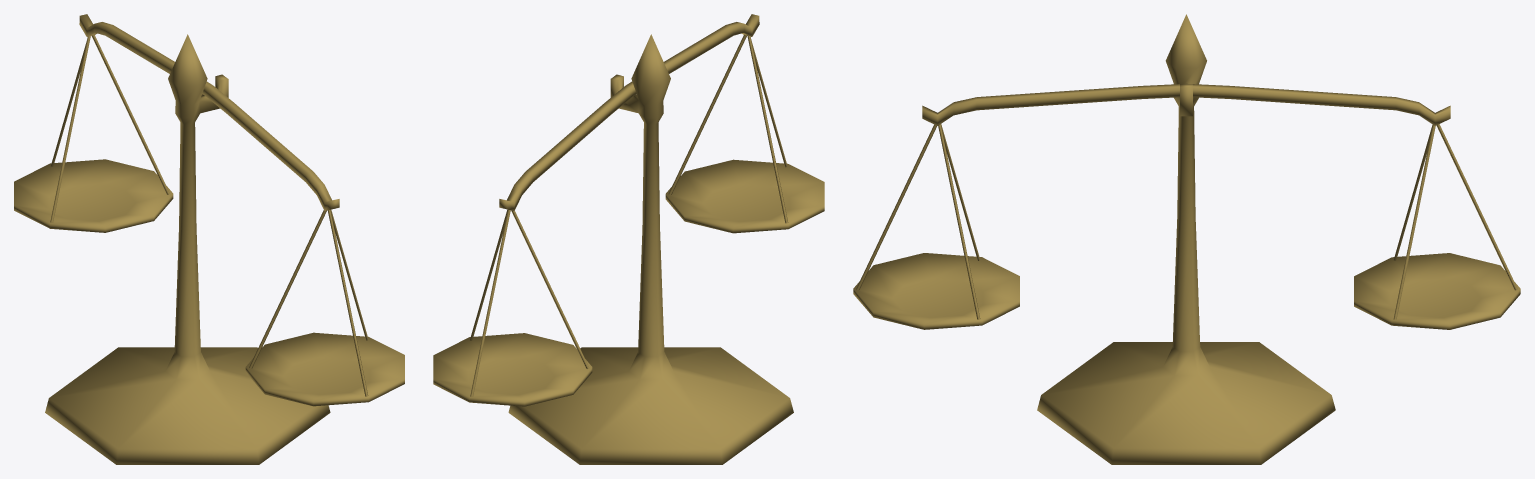
Rendered from LowPolyDungeonScale.glb.
The picture shows the model from 3 angles, left to right: view 1: azimuth 30°, elevation 25°; view 2: azimuth 150°, elevation 25°; view 3: azimuth 270°, elevation 25°; orthographic projection. The views are drawn at different scales.
Parts seen in each view (by area): view 1: Scales.001; view 2: Scales.001; view 3: Scales.001.
Boxes of the visible parts, x1,y1,x2,y2 form: Scales.001: (14,14,404,464); Scales.001: (433,14,824,464); Scales.001: (853,14,1520,464).
Bounding box in the file's own units: 0.294 × 0.4968 × 0.758.
Materials: 1 (1 with a texture image).
